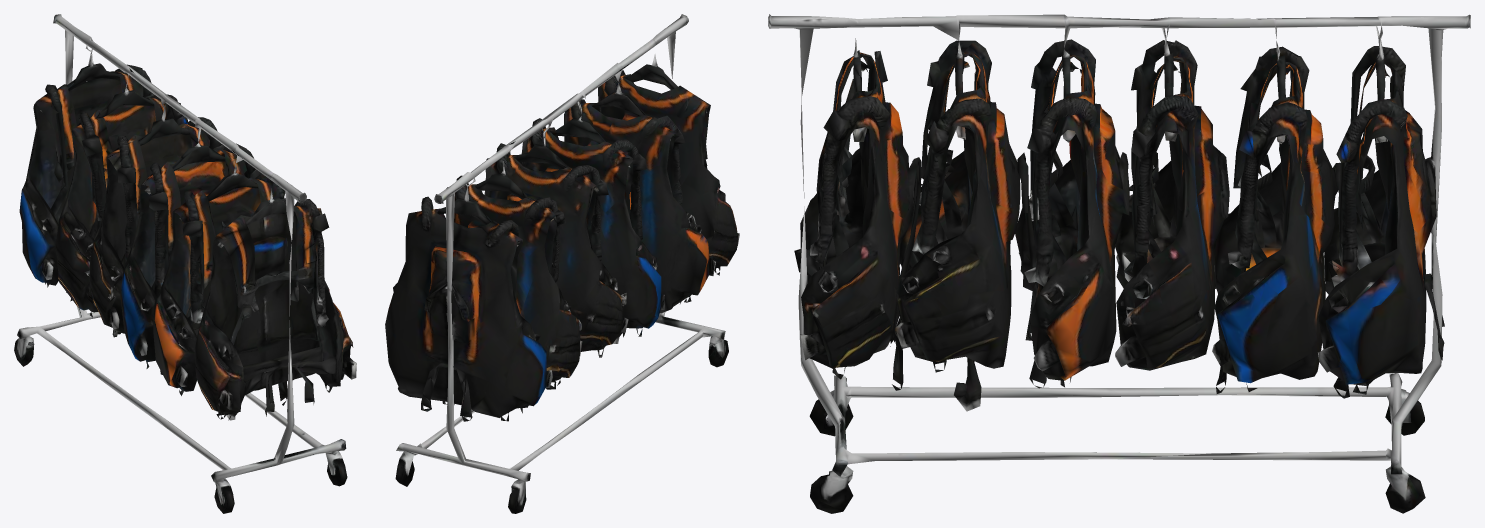
Rendered from rek-trimvesten.glb.
3 renders of one model, left to right at view 1: azimuth 30°, elevation 25°; view 2: azimuth 150°, elevation 25°; view 3: azimuth 270°, elevation 25°, orthographic. The views are drawn at different scales.
Parts seen in each view (by area): view 1: tripo_node_b38895c8-2232-4567-8c6b-907e832ee9e0; view 2: tripo_node_b38895c8-2232-4567-8c6b-907e832ee9e0; view 3: tripo_node_b38895c8-2232-4567-8c6b-907e832ee9e0.
Boxes of the visible parts, bbox=[...] form: tripo_node_b38895c8-2232-4567-8c6b-907e832ee9e0: bbox=[14, 14, 356, 513]; tripo_node_b38895c8-2232-4567-8c6b-907e832ee9e0: bbox=[385, 14, 739, 513]; tripo_node_b38895c8-2232-4567-8c6b-907e832ee9e0: bbox=[768, 14, 1470, 513].
Size of the model in its own units: 0.9472 by 1.8 by 2.5.
Materials: 1 (1 with a texture image).
